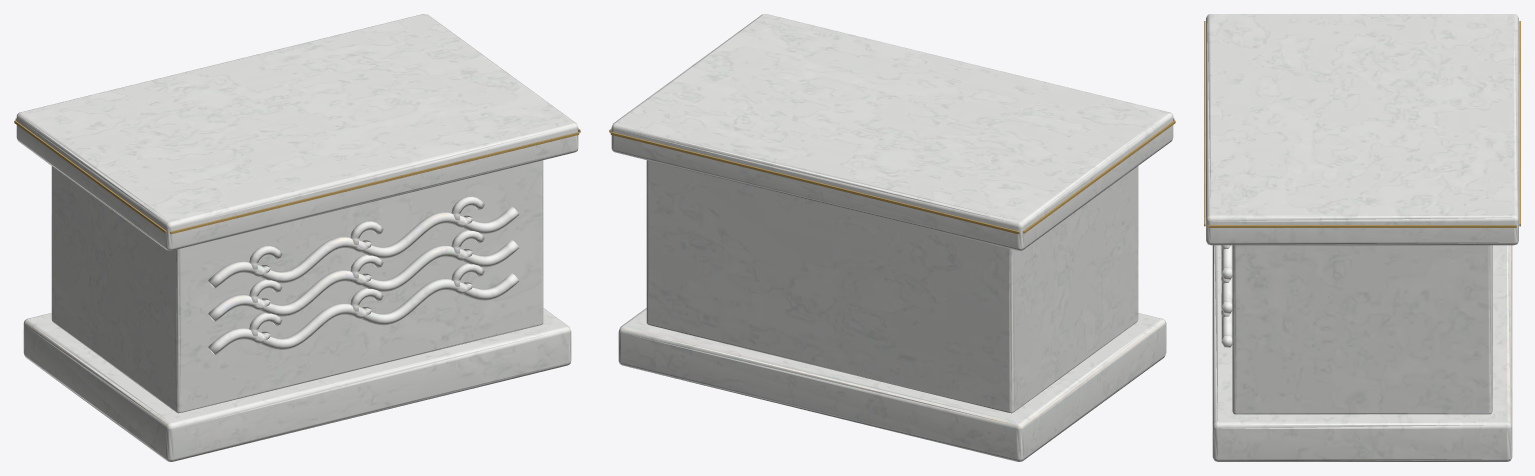
File: wave_altar.glb
The picture shows the model from 3 angles, left to right: view 1: azimuth 30°, elevation 25°; view 2: azimuth 150°, elevation 25°; view 3: azimuth 270°, elevation 25°; orthographic projection.
Parts seen in each view (by area): view 1: 17 Wave Altar; view 2: 17 Wave Altar; view 3: 17 Wave Altar.
Part boxes in pixels (box(x1,y1,x2,y2)): 17 Wave Altar: box(14, 14, 580, 461); 17 Wave Altar: box(609, 14, 1175, 461); 17 Wave Altar: box(1204, 14, 1520, 461).
Bounding box in the file's own units: 2.22 × 1.24 × 1.44.
Materials: 2 (2 with a texture image).
